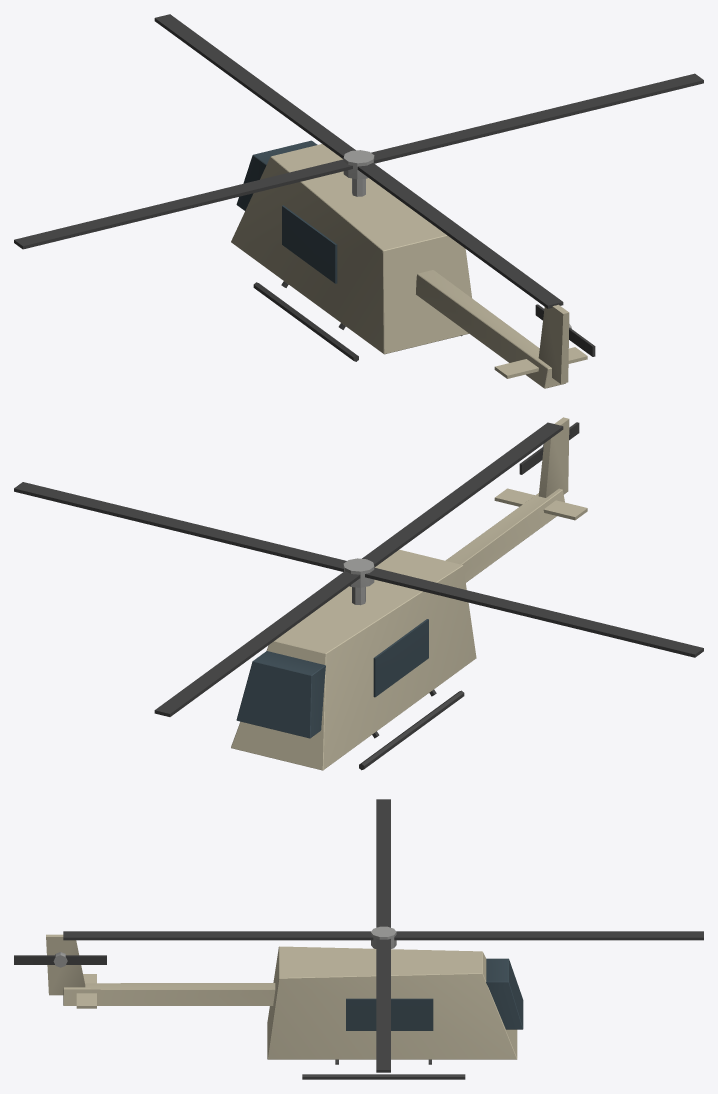
Rendered from rus_heli_ansat.glb.
3 views of the same model, one above another, from view 1: azimuth 30°, elevation 25°; view 2: azimuth 150°, elevation 25°; view 3: azimuth 270°, elevation 25° (orthographic). The views are drawn at different scales.
Visible parts, largest first — view 1: body, rotor; view 2: body, rotor; view 3: body, rotor, trotor.
Boxes of the visible parts, x1,y1,x2,y2 form: body: (231, 140, 587, 388); rotor: (14, 14, 703, 308); body: (231, 417, 587, 770); rotor: (14, 422, 703, 716); body: (46, 934, 523, 1079); rotor: (63, 799, 703, 1072); trotor: (14, 952, 106, 967).
Size of the model in its own units: 11 by 2.4 by 11.85.
